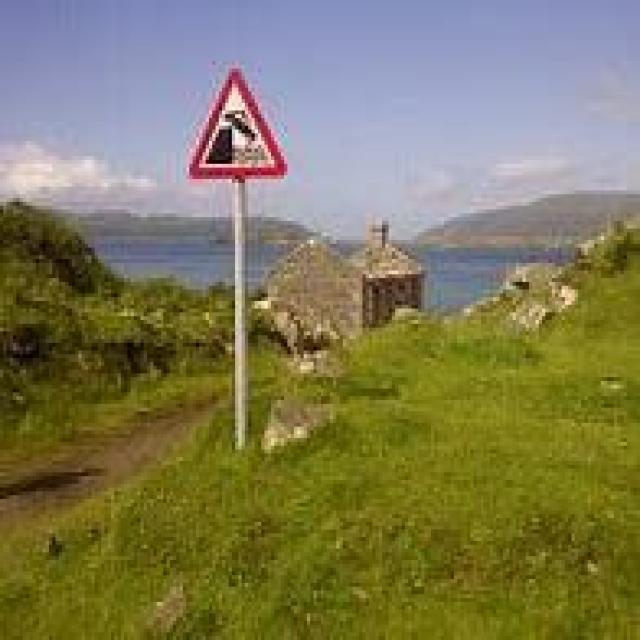quay side or river bank: (186, 66, 291, 186)
